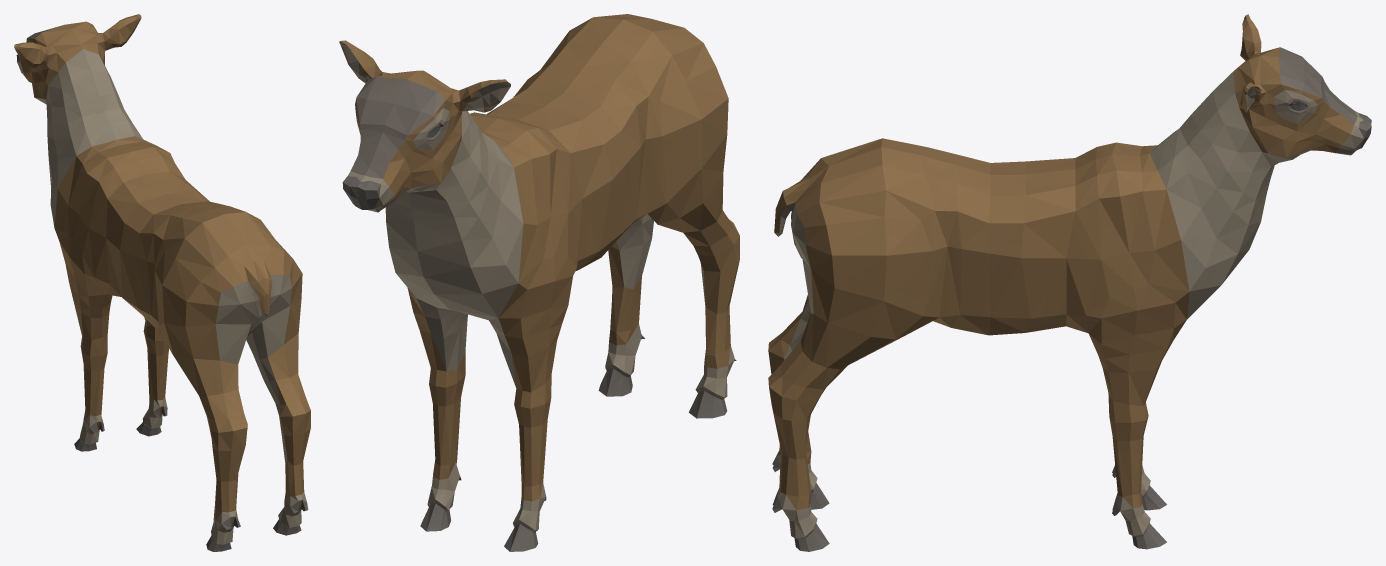
Rendered from grathorn.glb.
3 views of the same model, side by side, from view 1: azimuth 30°, elevation 25°; view 2: azimuth 150°, elevation 25°; view 3: azimuth 270°, elevation 25° (orthographic). The views are drawn at different scales.
Visible parts, largest first — view 1: Stag; view 2: Stag; view 3: Stag.
Boxes of the visible parts, box(x1,y1,x2,y2) form: Stag: box(14, 14, 310, 551); Stag: box(339, 14, 739, 551); Stag: box(768, 14, 1371, 551).
Size of the model in its own units: 0.4482 by 1.28 by 1.48.
